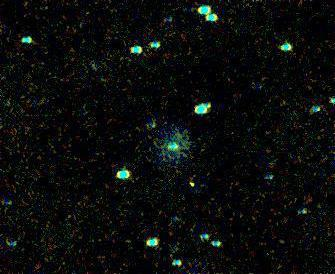star: (178, 170, 208, 200)
